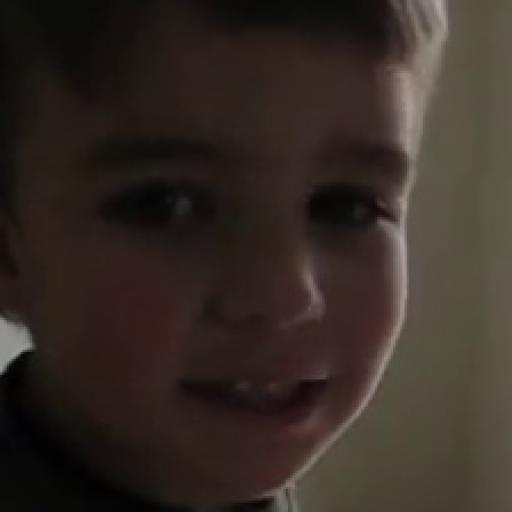Autism: (12, 12, 487, 467)
